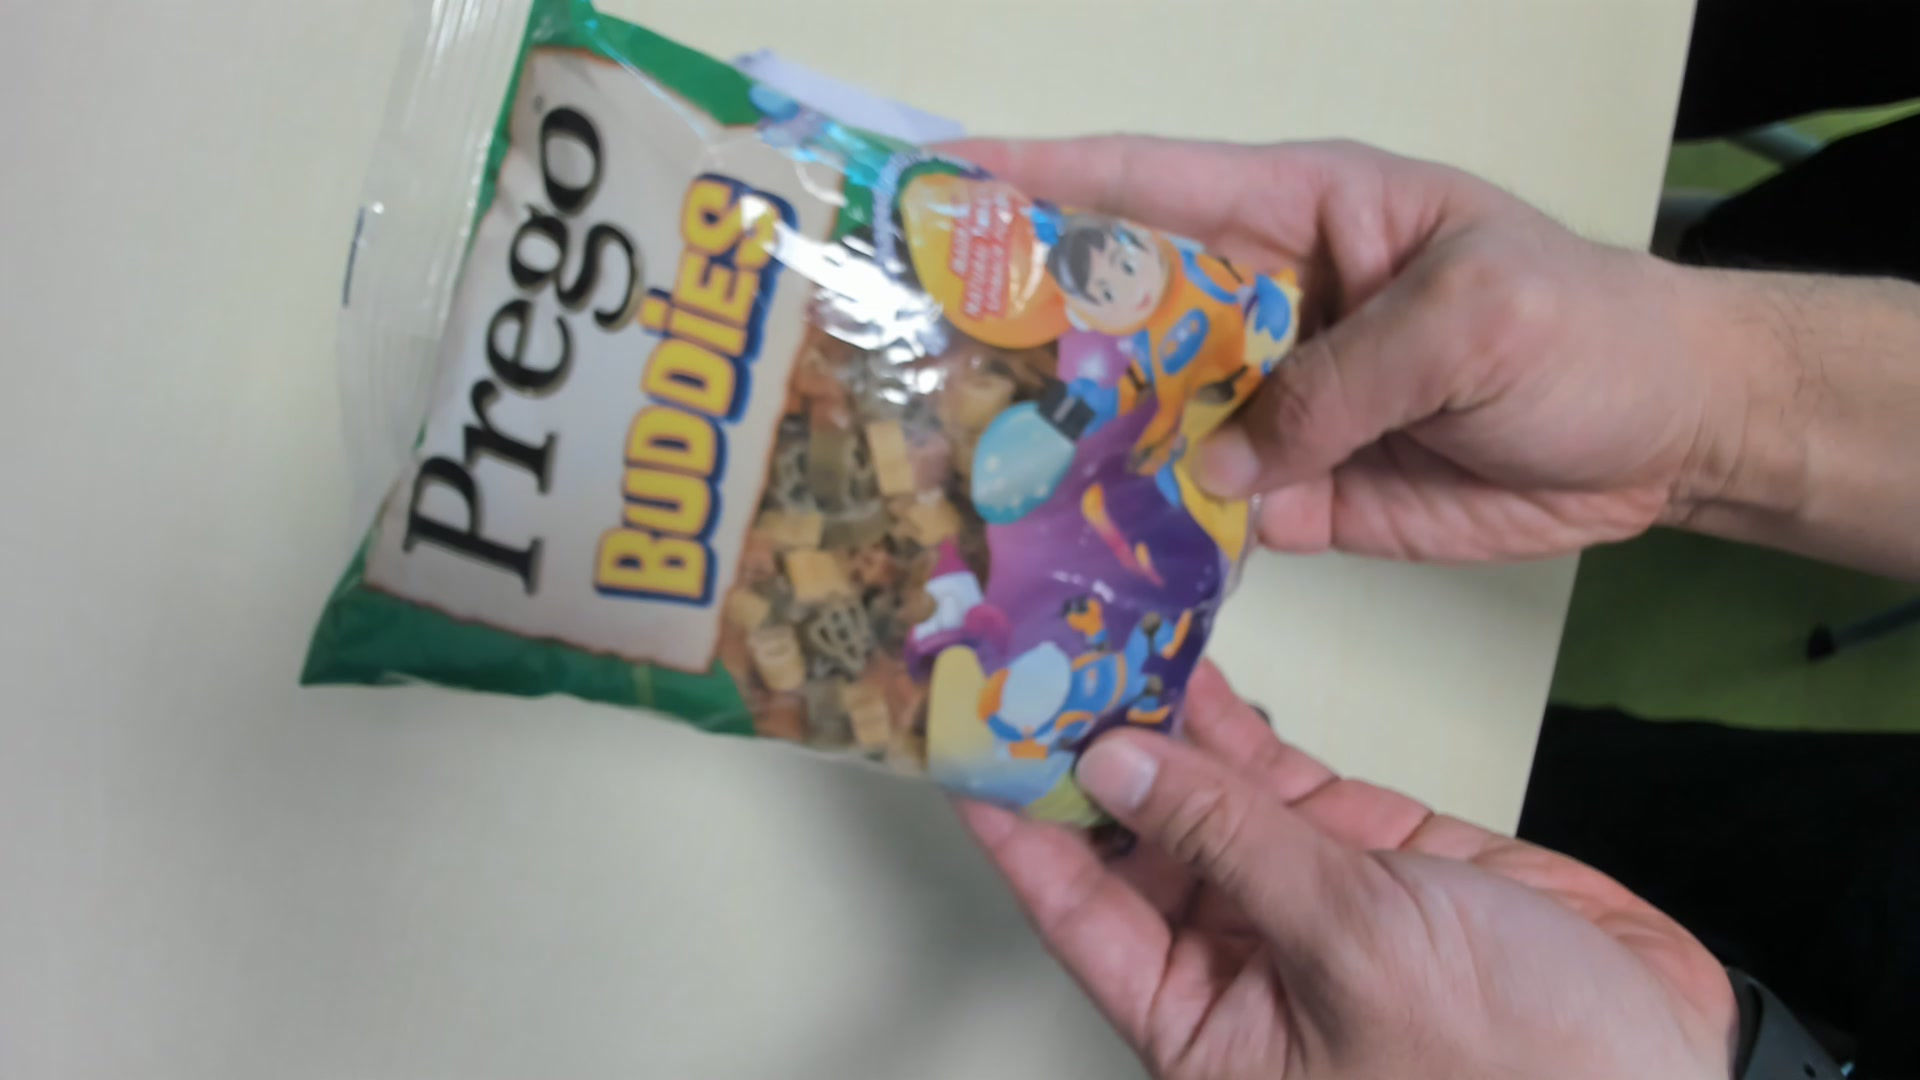Pasta_200-299g_Halal_NonHealthy: (295, 7, 1304, 833)
